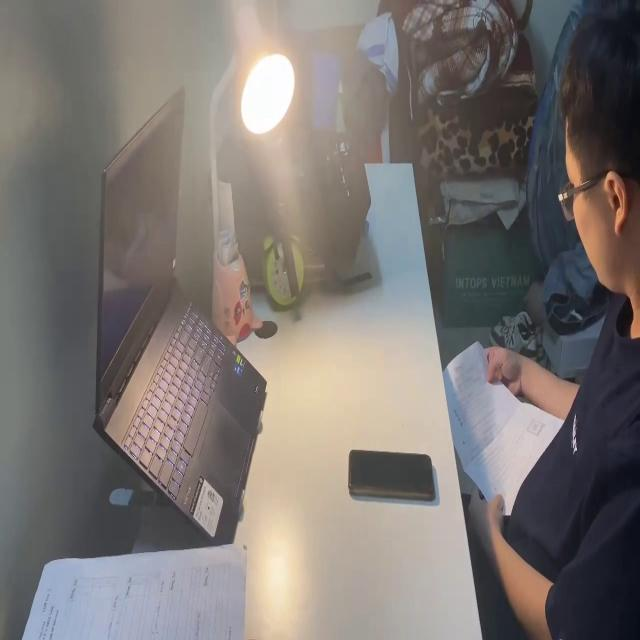book: (442, 336, 569, 518), (26, 539, 245, 640)
laptop: (90, 80, 268, 542)
phone: (347, 439, 438, 507)
student: (463, 0, 640, 640)
